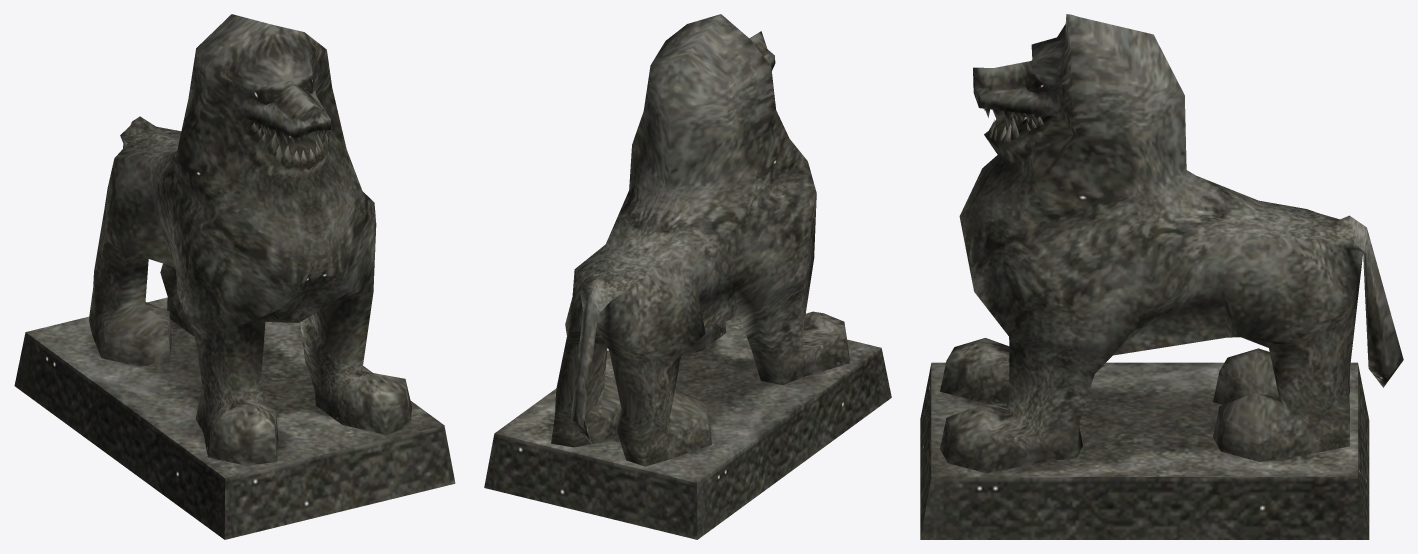
The model's file is ep_obj_lionstoneimage.glb.
The picture shows the model from 3 angles, left to right: view 1: azimuth 30°, elevation 25°; view 2: azimuth 150°, elevation 25°; view 3: azimuth 270°, elevation 25°; orthographic projection. The views are drawn at different scales.
Parts seen in each view (by area): view 1: ep_obj_lionstoneimage; view 2: ep_obj_lionstoneimage; view 3: ep_obj_lionstoneimage.
Boxes of the visible parts, x1,y1,x2,y2 form: ep_obj_lionstoneimage: (14,14,455,539); ep_obj_lionstoneimage: (484,14,891,539); ep_obj_lionstoneimage: (920,14,1403,539).
Size of the model in its own units: 2.77 by 5.01 by 4.71.
Materials: 1 (1 with a texture image).
